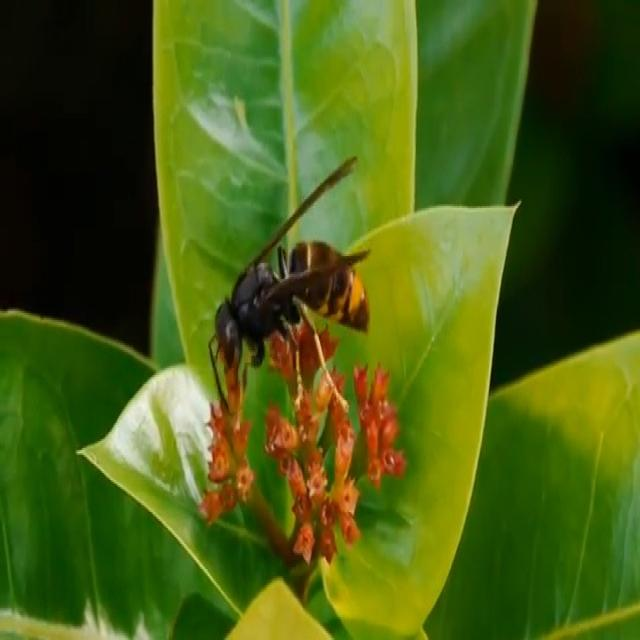Hornets: (209, 152, 373, 421)
